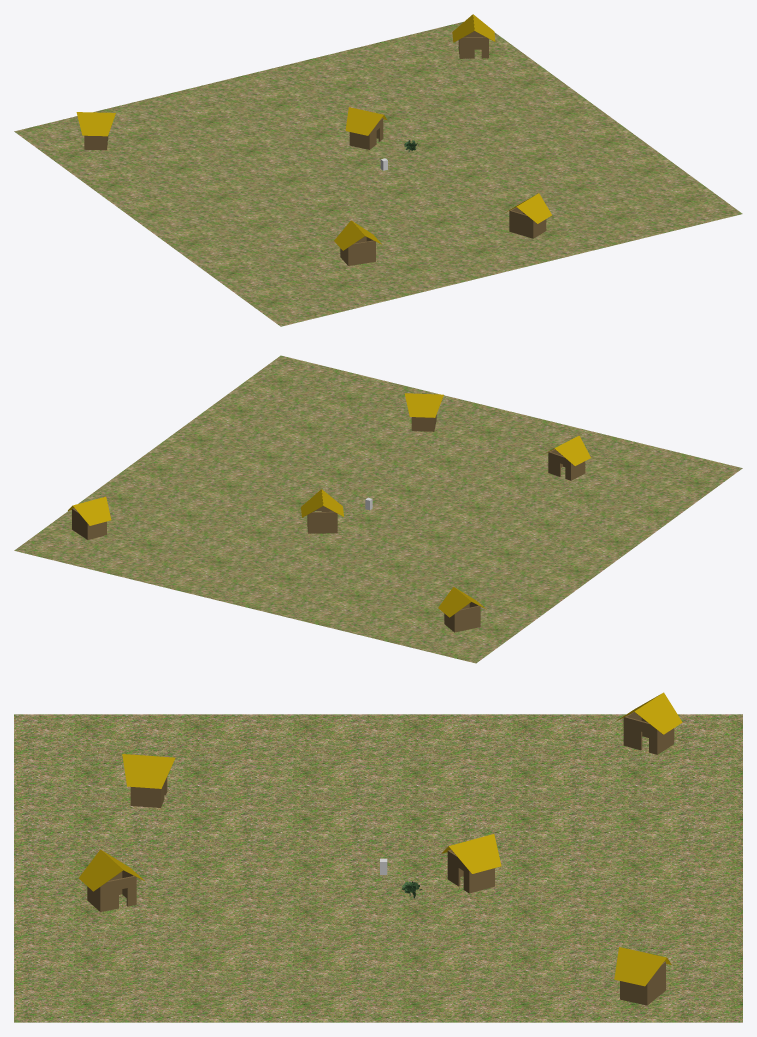
3 views of the same model, one above another, from view 1: azimuth 30°, elevation 25°; view 2: azimuth 150°, elevation 25°; view 3: azimuth 270°, elevation 25° (orthographic). The views are drawn at different scales.
Parts seen in each view (by area): view 1: Plane, roof (×5), Cube (×4); view 2: Plane, roof (×5), Cube (×4); view 3: Plane, roof (×5), Cube (×5).
Part boxes in pixels (bbox=[...]): Plane: bbox=[14, 21, 742, 326]; roof (×5): bbox=[76, 14, 551, 250]; Cube (×4): bbox=[340, 31, 546, 265]; Plane: bbox=[14, 355, 742, 663]; roof (×5): bbox=[68, 393, 590, 617]; Cube (×4): bbox=[72, 449, 585, 632]; Plane: bbox=[14, 714, 742, 1022]; roof (×5): bbox=[78, 692, 682, 986]; Cube (×5): bbox=[87, 712, 674, 1005].
Bounding box in the file's own units: 100 × 6.7 × 100.
